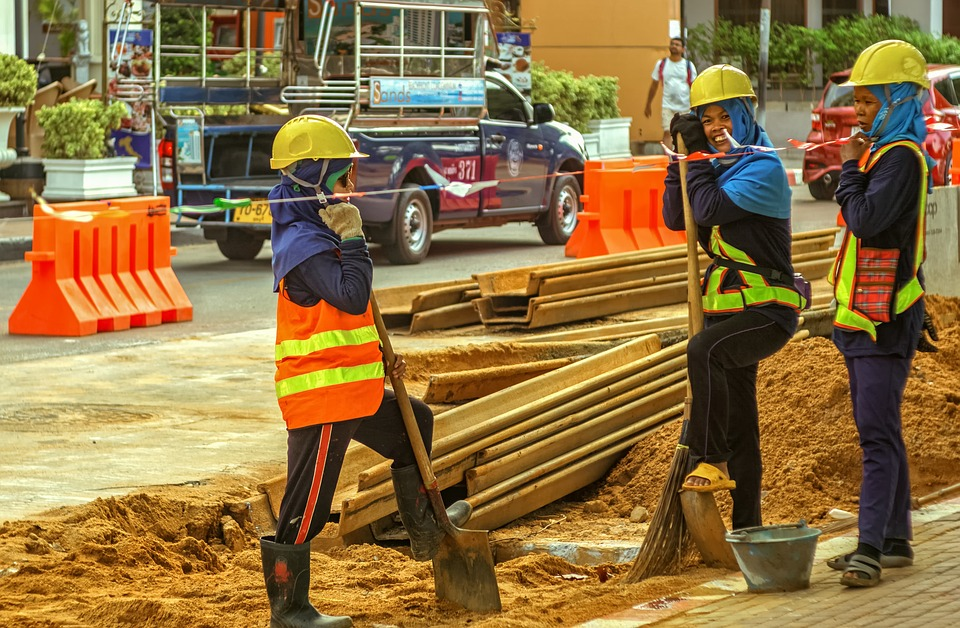cap: (256, 110, 376, 172), (827, 43, 943, 97), (678, 65, 769, 112)
jacket: (632, 138, 960, 315), (226, 206, 401, 467)
